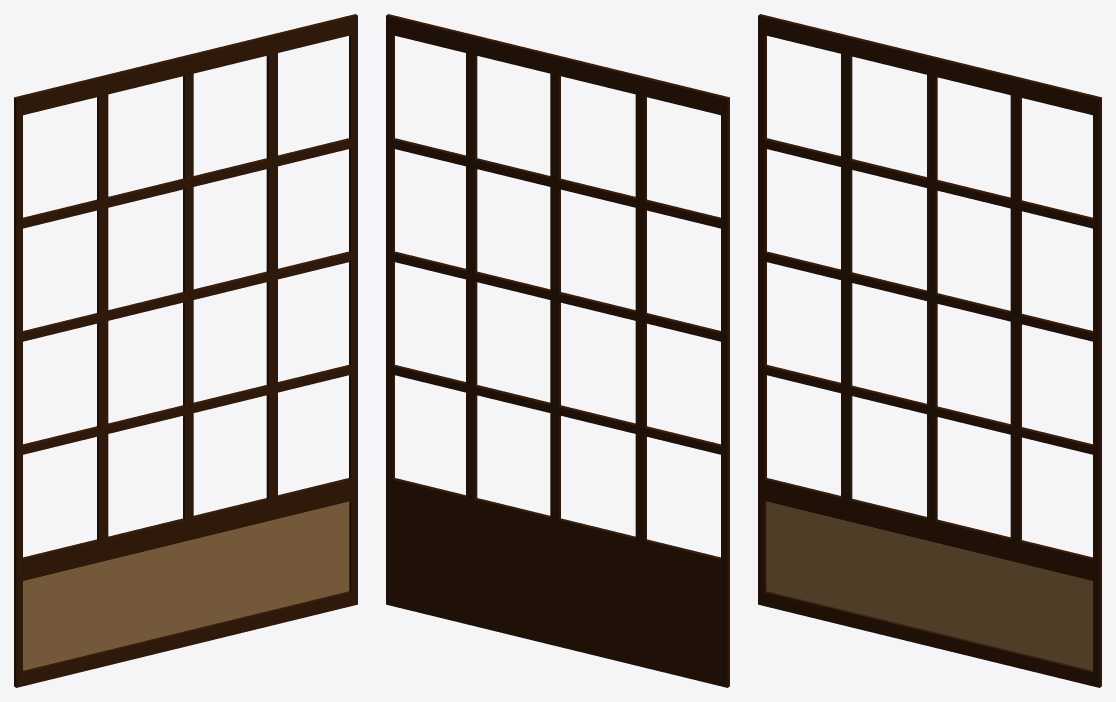
File: ventana3.fbx
The picture shows the model from 3 angles, left to right: view 1: azimuth 30°, elevation 25°; view 2: azimuth 150°, elevation 25°; view 3: azimuth 330°, elevation 25°; orthographic projection.
Visible parts, largest first — view 1: Cube.003; view 2: Cube.003; view 3: Cube.003.
Part boxes in pixels (box(x1,y1,x2,y2)): Cube.003: box(14, 14, 357, 687); Cube.003: box(386, 14, 729, 687); Cube.003: box(758, 14, 1101, 687).
Bounding box in the file's own units: 2892 × 4766 × 32.14.
